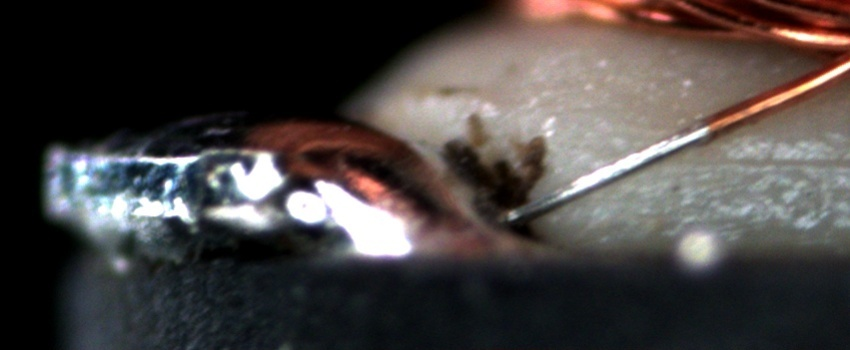DL: (718, 134, 849, 194)
TS: (490, 121, 712, 227)
